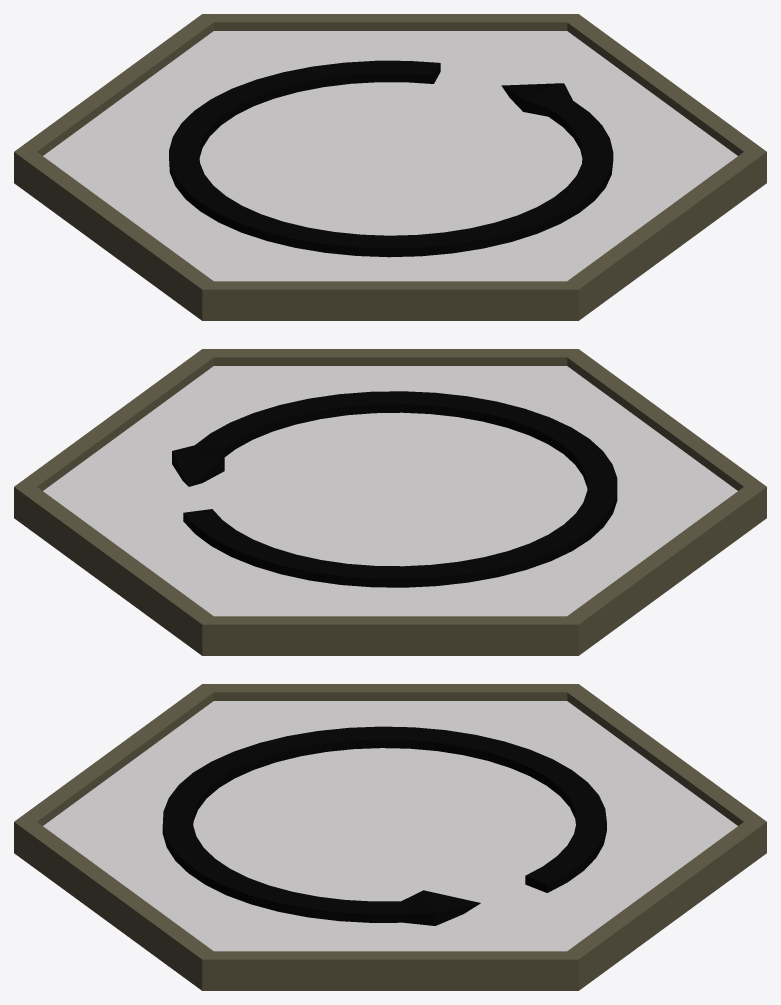
The model's file is RotateDice.fbx.
The picture shows the model from 3 angles, top to bottom: view 1: azimuth 30°, elevation 25°; view 2: azimuth 150°, elevation 25°; view 3: azimuth 270°, elevation 25°; orthographic projection.
Visible parts, largest first — view 1: RotateDice; view 2: RotateDice; view 3: RotateDice.
Boxes of the visible parts, left/top/right/bottom form: RotateDice: left=14, top=14, right=766, bottom=320; RotateDice: left=14, top=349, right=766, bottom=655; RotateDice: left=14, top=684, right=766, bottom=990.
Bounding box in the file's own units: 314 × 19.01 × 363.
